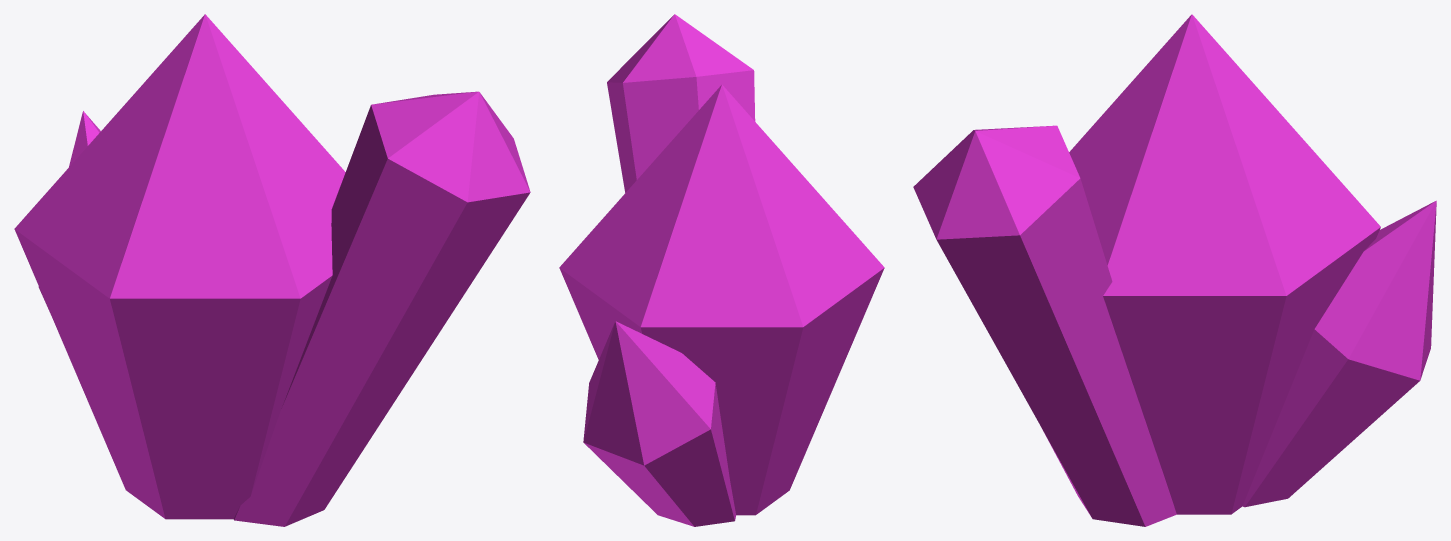
Rendered from Crystal_solo_1.fbx.
The picture shows the model from 3 angles, left to right: view 1: azimuth 30°, elevation 25°; view 2: azimuth 150°, elevation 25°; view 3: azimuth 270°, elevation 25°; orthographic projection. The views are drawn at different scales.
Parts seen in each view (by area): view 1: Crystal_solo_1; view 2: Crystal_solo_1; view 3: Crystal_solo_1.
Boxes of the visible parts, x1,y1,x2,y2 form: Crystal_solo_1: (14, 14, 530, 526); Crystal_solo_1: (559, 14, 884, 526); Crystal_solo_1: (913, 14, 1436, 526).
Size of the model in its own units: 256 by 319 by 320.
